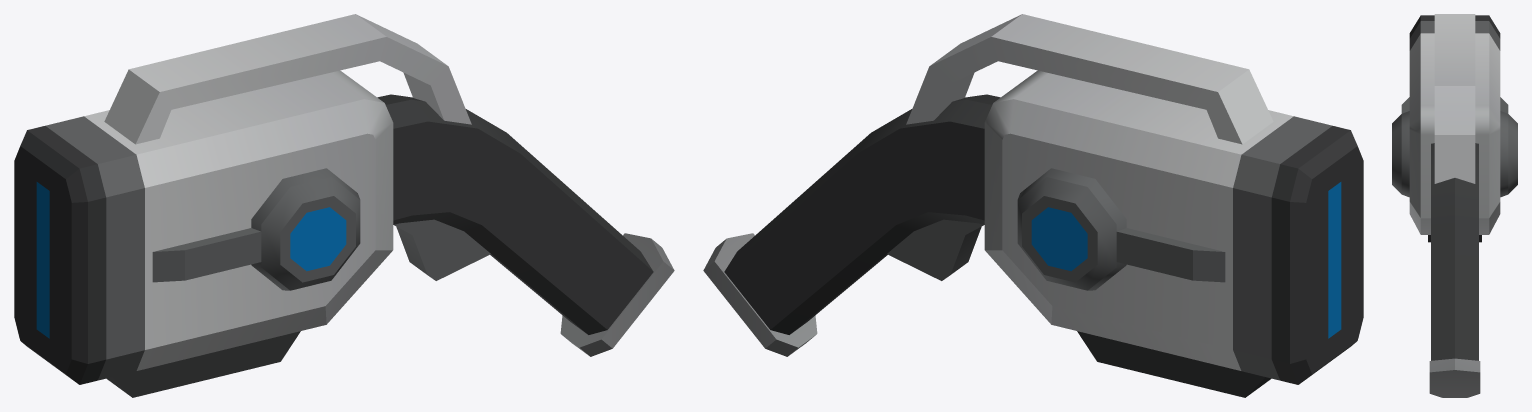
The model's file is Gun_001.fbx.
3 renders of one model, left to right at view 1: azimuth 30°, elevation 25°; view 2: azimuth 150°, elevation 25°; view 3: azimuth 270°, elevation 25°, orthographic. The views are drawn at different scales.
Visible parts, largest first — view 1: Gun_001; view 2: Gun_001; view 3: Gun_001.
Part boxes in pixels (x1,y1,x2,y2): Gun_001: (14,14,674,397); Gun_001: (703,14,1363,397); Gun_001: (1392,14,1517,397).
Size of the model in its own units: 51.96 by 14.03 by 30.14.
